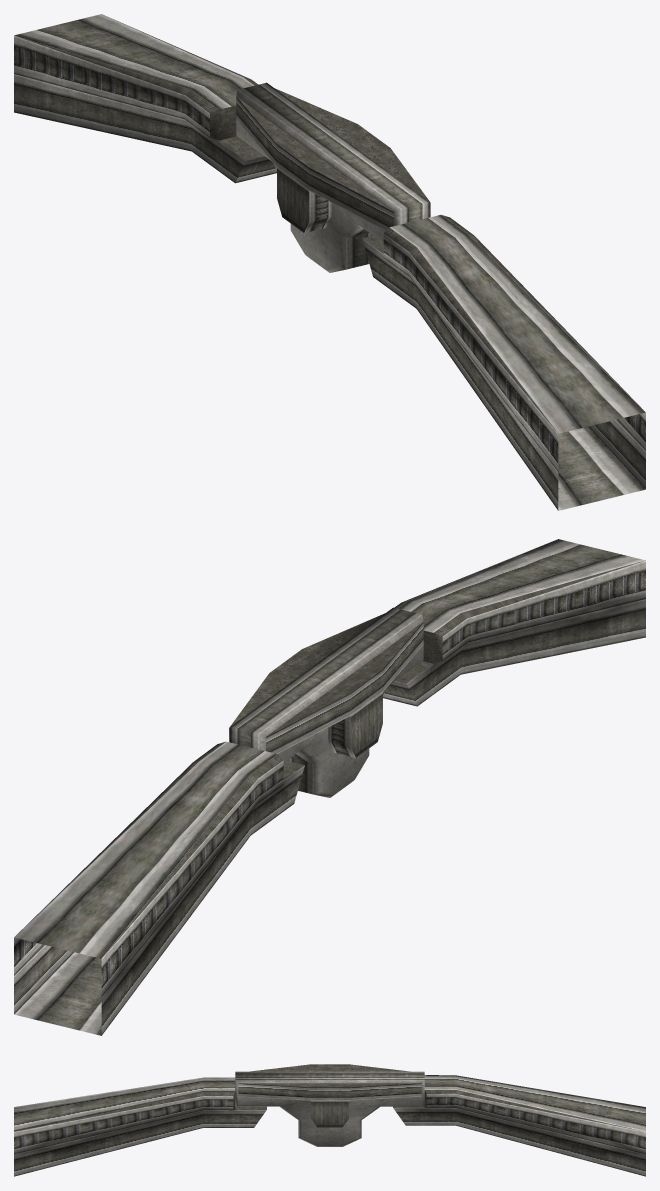
File: DWARF_PALACE_ARKENSTON_ARCHWAY.fbx
The picture shows the model from 3 angles, top to bottom: view 1: azimuth 30°, elevation 25°; view 2: azimuth 150°, elevation 25°; view 3: azimuth 270°, elevation 25°; orthographic projection. The views are drawn at different scales.
Visible parts, largest first — view 1: DWARF_PALACE_ARKENSTON_ARCHWAY; view 2: DWARF_PALACE_ARKENSTON_ARCHWAY; view 3: DWARF_PALACE_ARKENSTON_ARCHWAY.
Part boxes in pixels (left/top/right/bottom): DWARF_PALACE_ARKENSTON_ARCHWAY: left=14, top=14, right=645, bottom=510; DWARF_PALACE_ARKENSTON_ARCHWAY: left=14, top=539, right=645, bottom=1035; DWARF_PALACE_ARKENSTON_ARCHWAY: left=14, top=1064, right=645, bottom=1176.
Size of the model in its own units: 23896 by 40000 by 255927.
4 materials, 4 textured.
